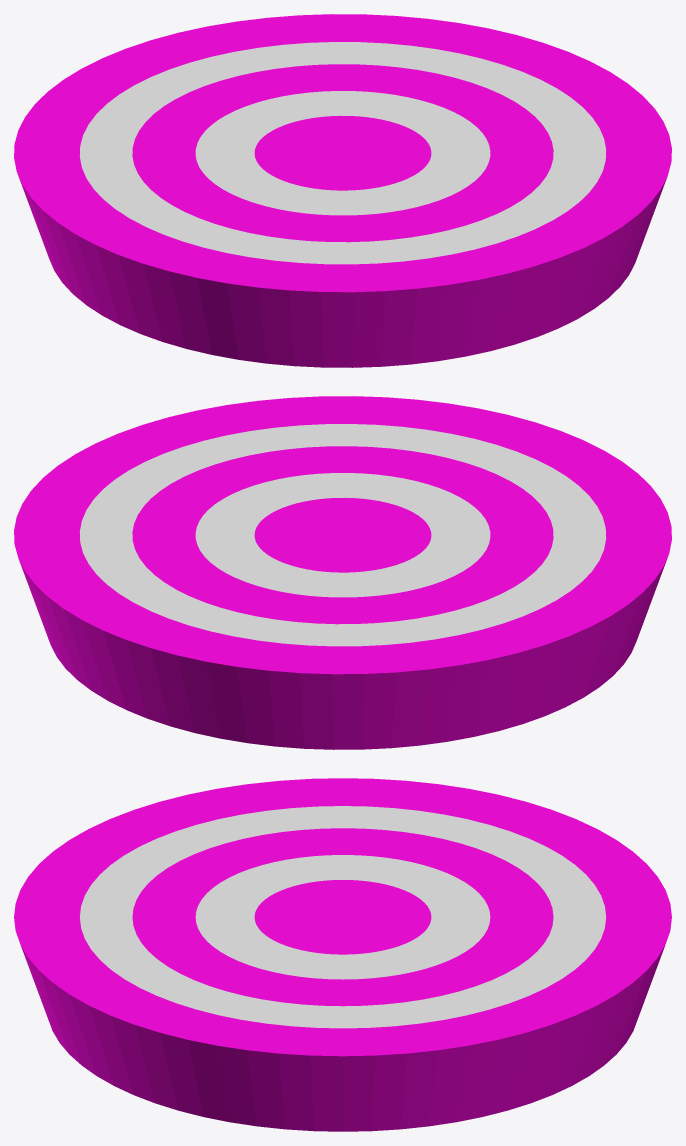
File: Board_Pink.fbx
3 renders of one model, top to bottom at view 1: azimuth 30°, elevation 25°; view 2: azimuth 150°, elevation 25°; view 3: azimuth 270°, elevation 25°, orthographic.
Visible parts, largest first — view 1: Board_Pink; view 2: Board_Pink; view 3: Board_Pink.
Part boxes in pixels (x1,y1,x2,y2): Board_Pink: (14, 14, 671, 367); Board_Pink: (14, 396, 671, 749); Board_Pink: (14, 778, 671, 1131).
Size of the model in its own units: 200 by 30 by 200.
